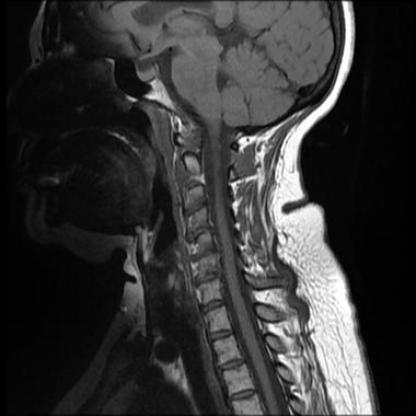Disc Protrusionrotation: (192, 270, 224, 285), (189, 248, 219, 263), (181, 203, 209, 218), (186, 225, 214, 238)
Osteophytesrotation: (192, 271, 224, 286), (190, 248, 219, 263), (181, 202, 209, 217), (186, 225, 214, 239)
